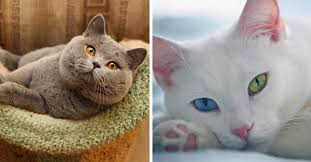kedi: (152, 30, 303, 153), (33, 1, 146, 112)
